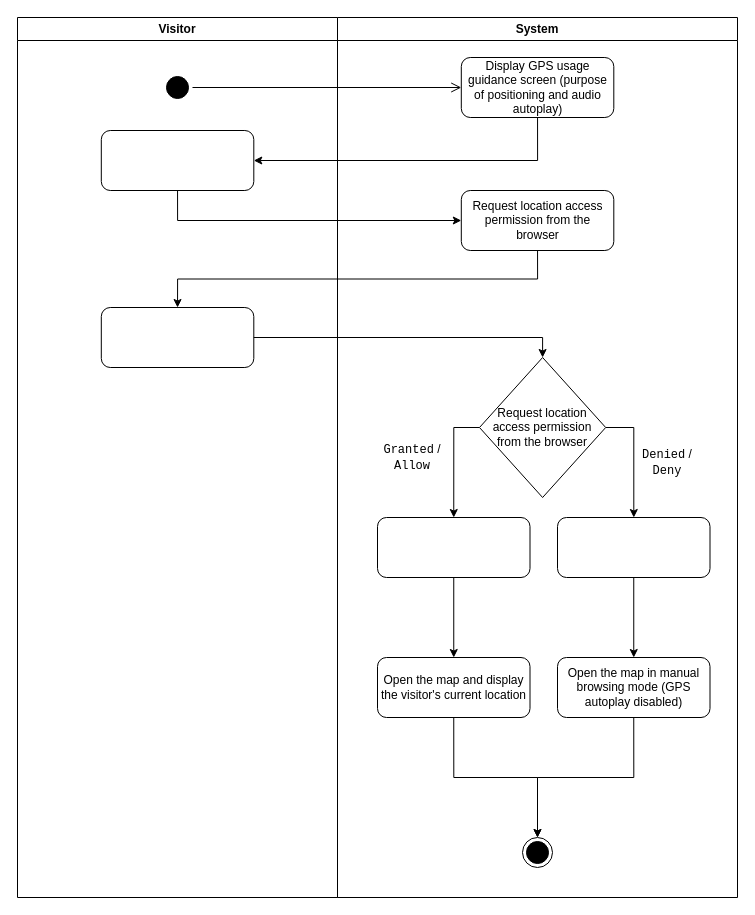
Some shapes in this 755 by 915 pixel diagram are drawn without their labels. The centre of each missing label's shape, as x and y in pixels:
Record granted permission and acquire GPS coordinates: (453,547)
Record location permission as denied: (633,547)
Respond to the browser's permission dialog: (177,337)
Select "Enable GPS / Continue": (177,160)
